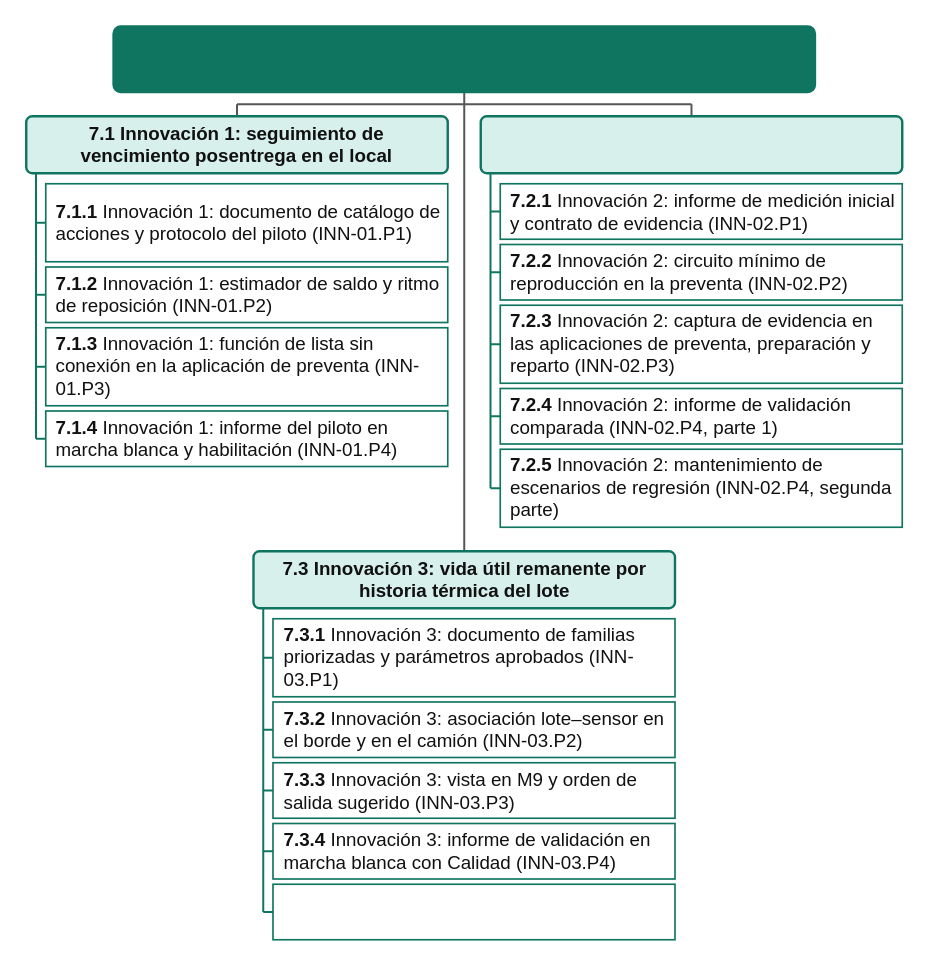
The diagram is 930 pixels wide and 968 high, and some of its shapes have lost their labels. The centre of each missing label's shape, as x and y in pixels:
7. Innovaciones verificadas (1 de 2): the point at 463,58
7.2 Innovación 2: reproducción de incidentes de terreno: the point at 691,144
7.3.5 Innovación 3: informes de revisión periódica de parámetros (INN-03.P5): the point at 473,911
